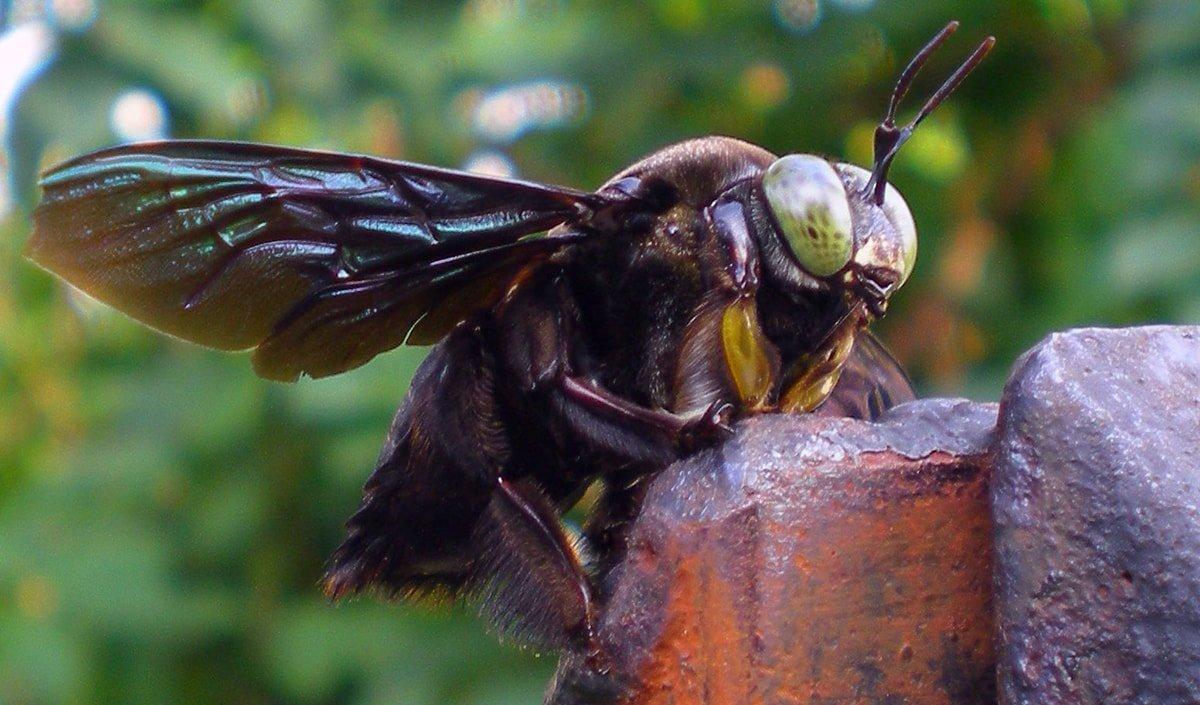Xylocopa: (35, 78, 1040, 690)
